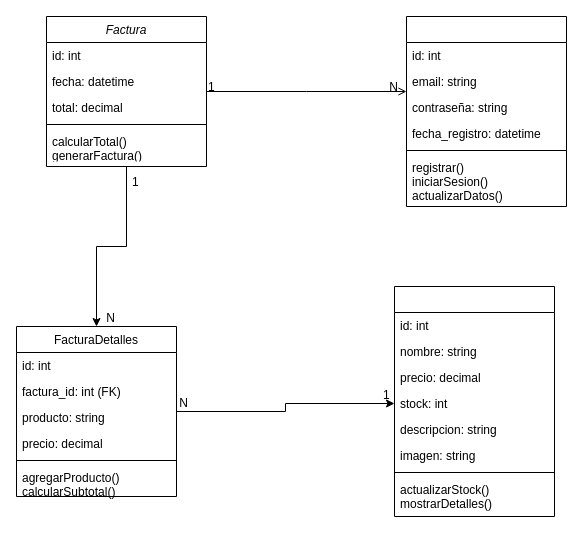
Image size: 583x533. Some labels were removed from this diagram. The shapes that lost their labels are listed below. From the top down, each one's box as (x1, y1, x2, y2) in pixels, then its label:
(406, 16, 566, 206): Usuarios
(394, 286, 554, 516): Instrumentos
